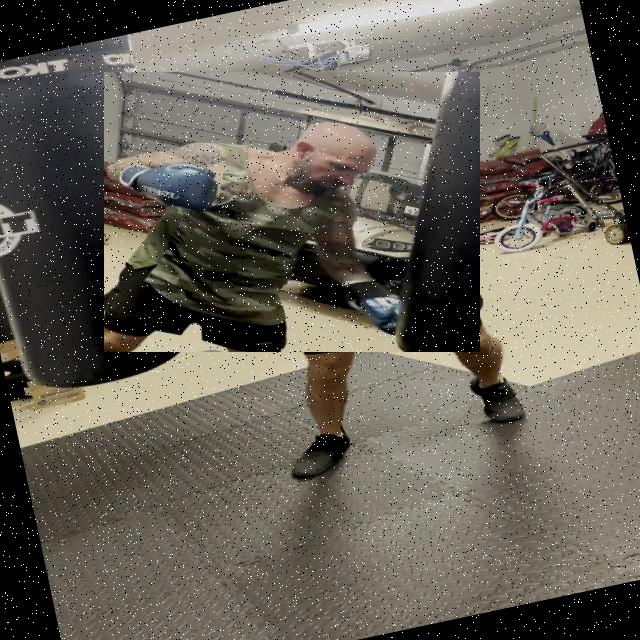punch: (104, 72, 480, 352)
